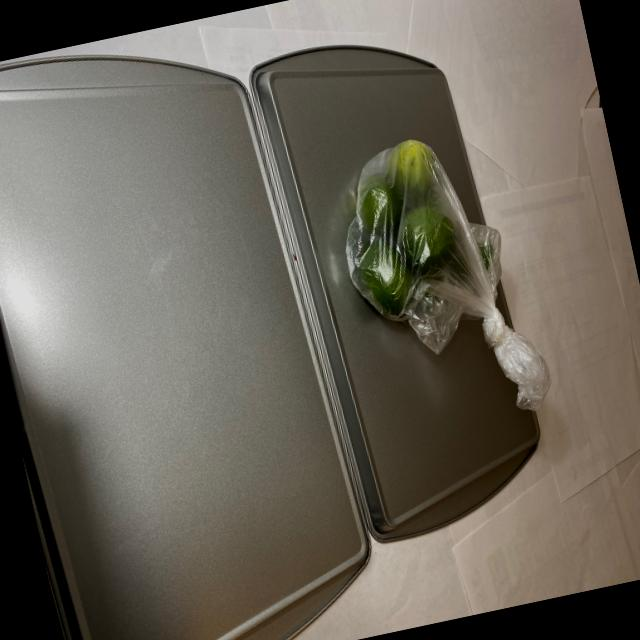lemon: (320, 121, 508, 340)
